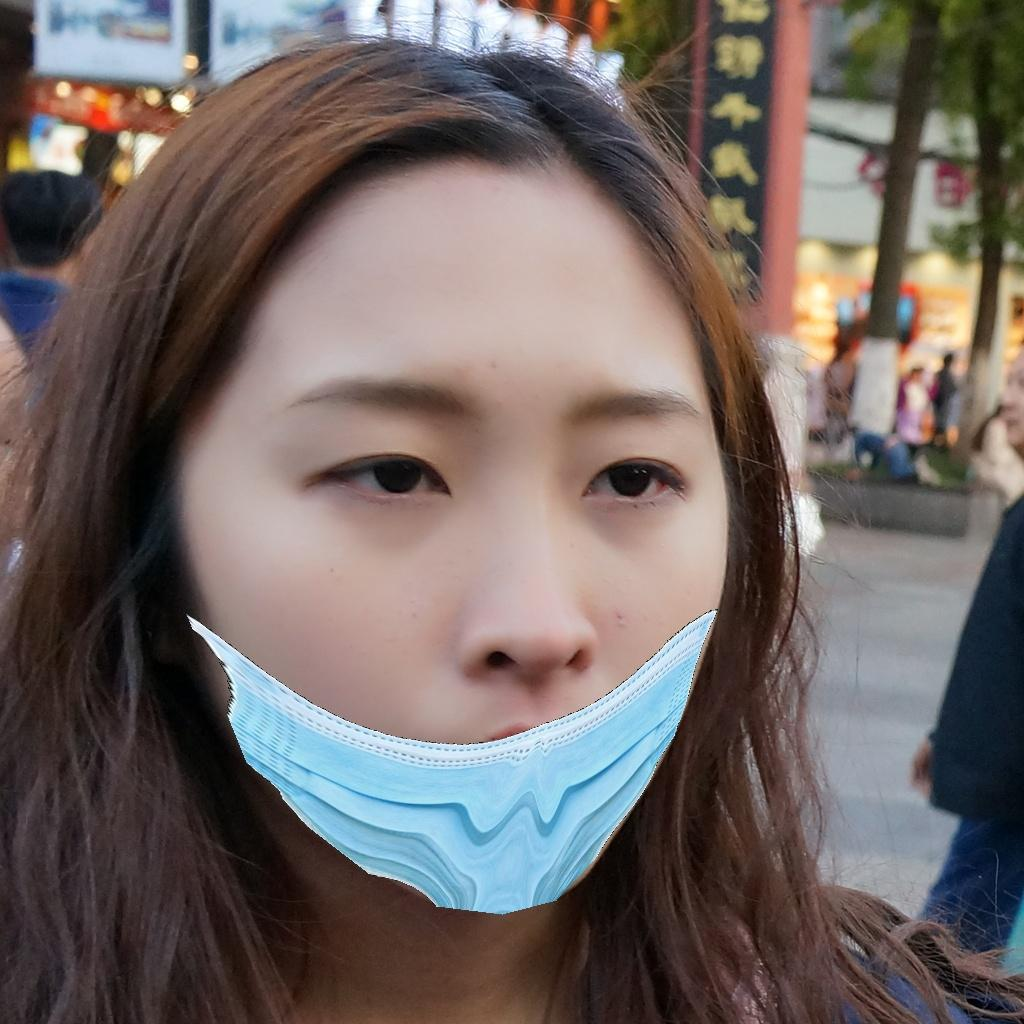Máscara Incorreta: (116, 165, 767, 897)
